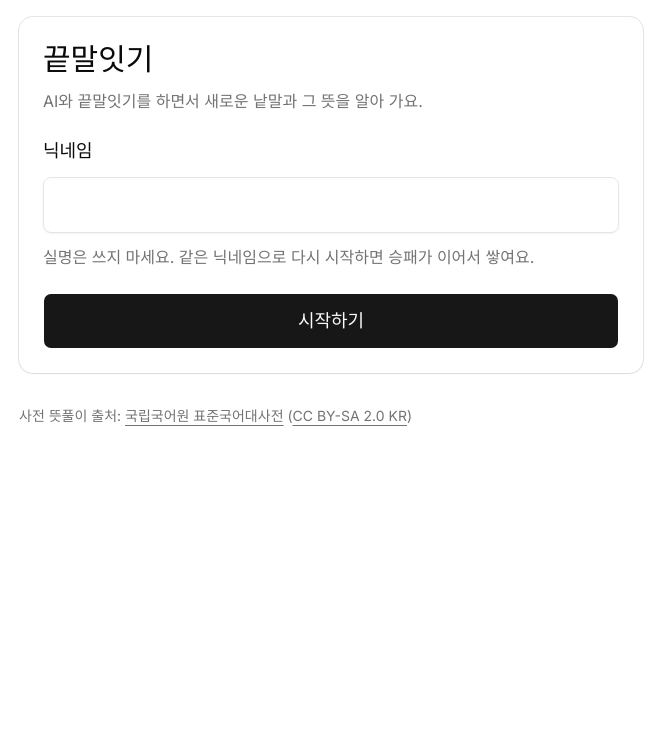
Test: 사전으로 단어 확인 › 연결하지 못하면 기회가 줄지 않고 단어장 단어는 계속 낼 수 있다
Type "하늘" into the field labelled "닉네임". click: (331,205)
box: [43,177,619,233]
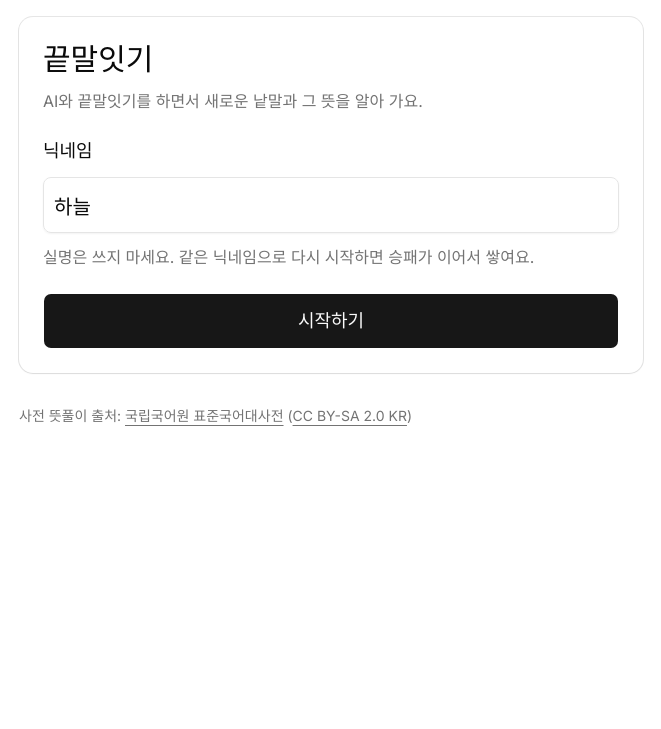
Click the button "시작하기". click: (331,321)
box: [43,293,619,349]
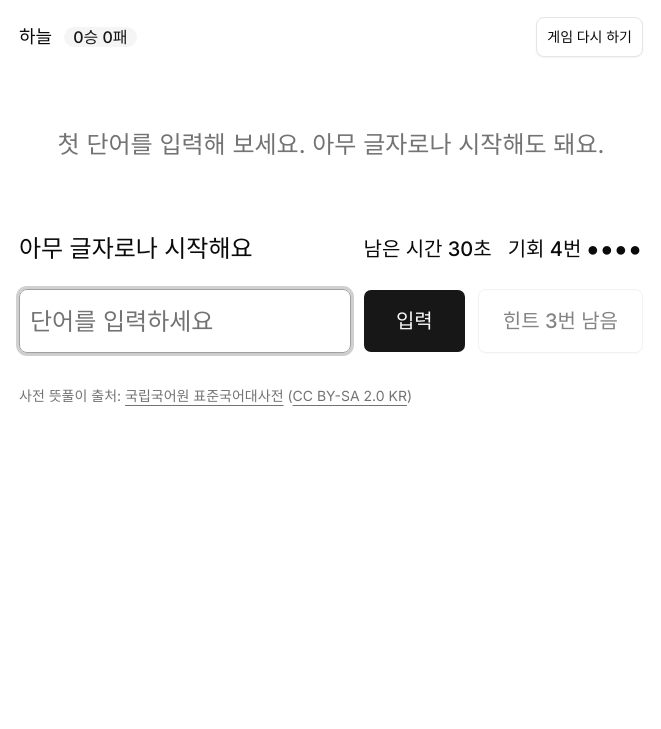
Type "사자" into the field named "단어 입력". click: (185,321)
box: [19,289,351,353]
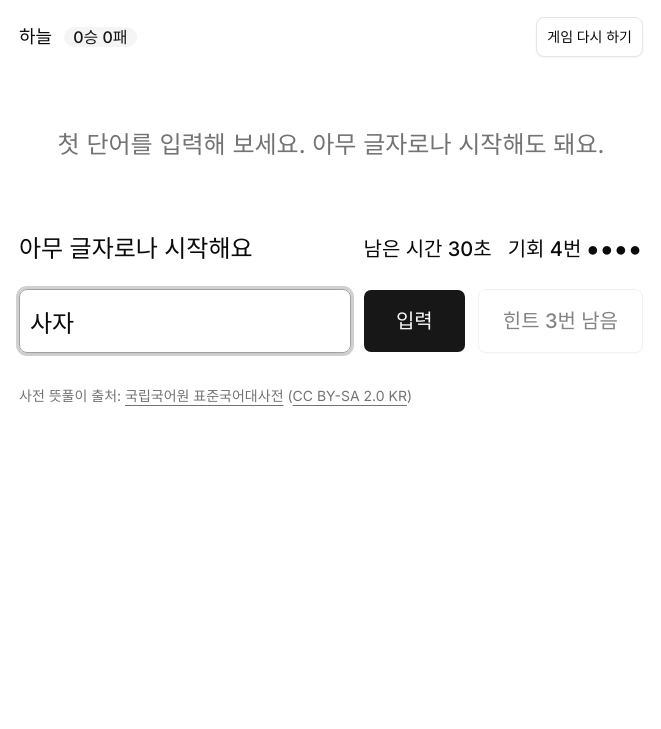
Click the button "입력". click: (414,321)
box: [363,289,466,353]
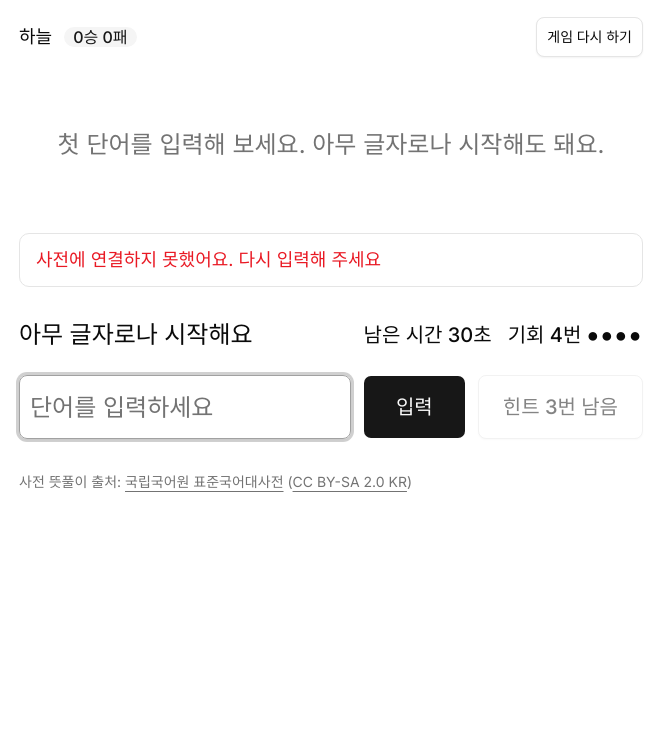
Check: the text "기회 4번 ●●●●" is shown, box [508,321,643,349]
Check: the text "사전에 연결하지 못했어요. 다시 입력해 주세요" is shown, box [36,249,381,270]
Type "사과" into the field named "단어 입력". click: (185,407)
box: [19,375,351,439]
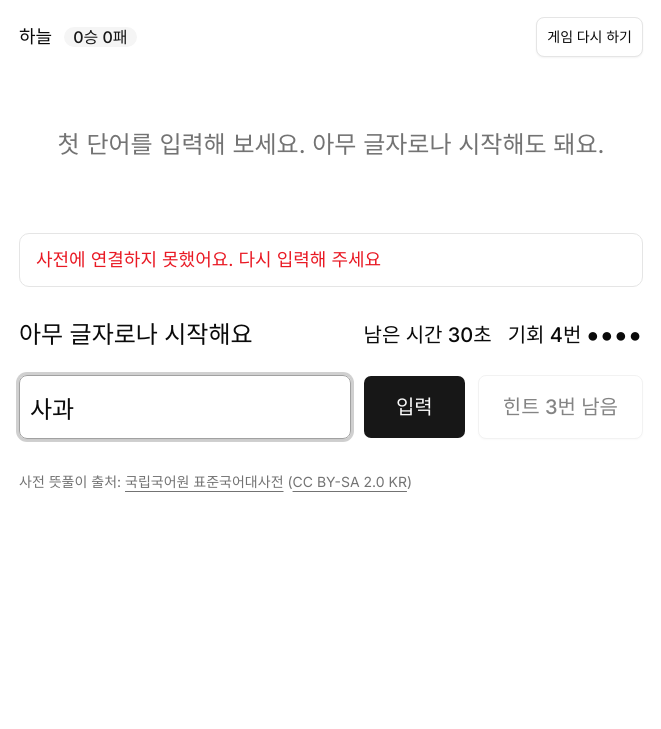
Click the button "입력". click: (414,407)
box: [363,375,466,439]
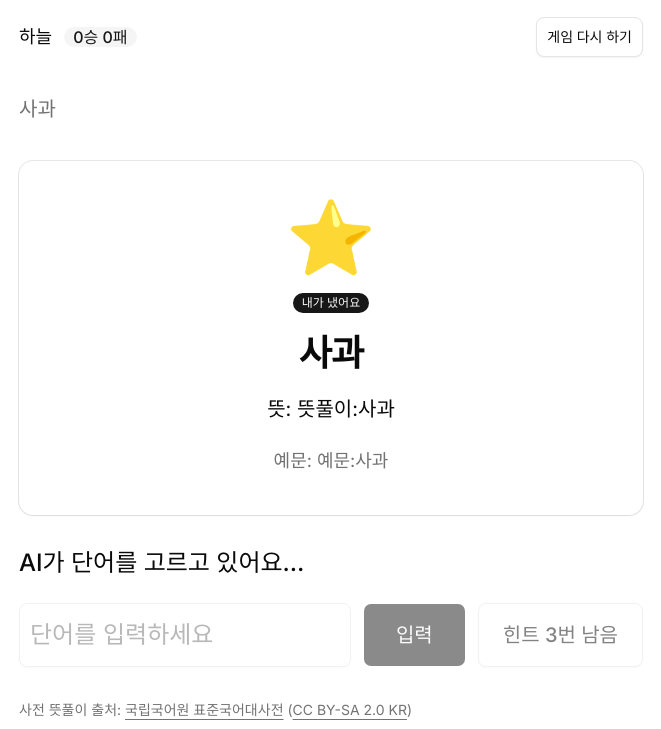
Check: the element with test id "word-card" shows "뜻풀이:사과", box [297,397,395,421]
